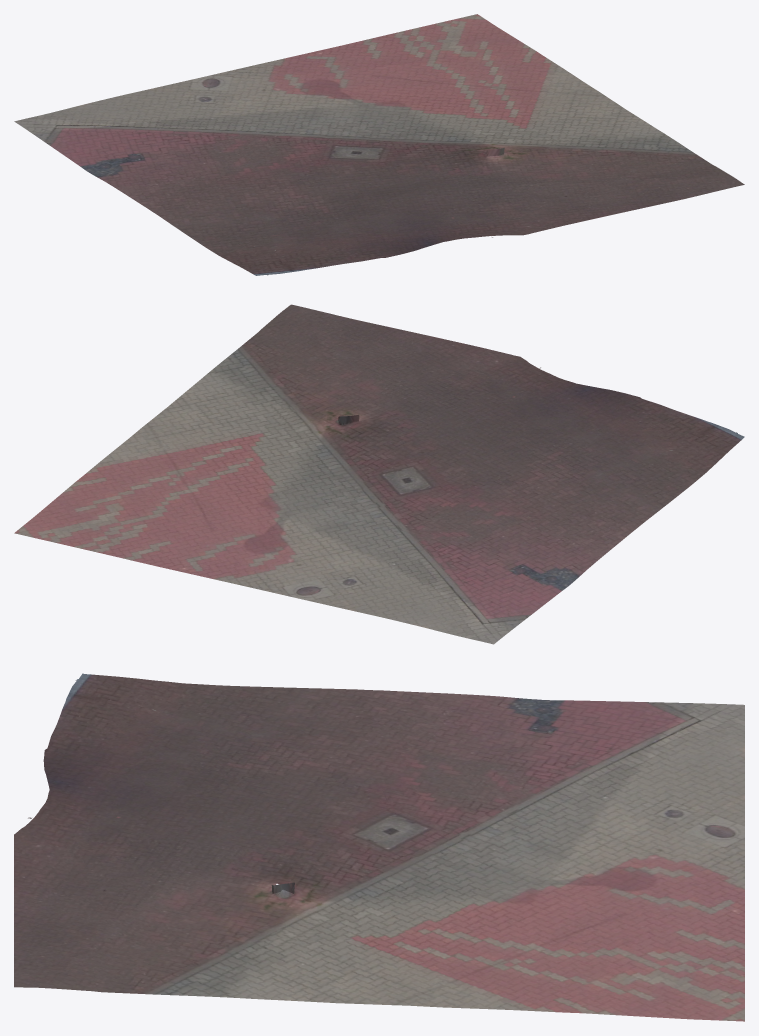
The picture shows the model from 3 angles, top to bottom: view 1: azimuth 30°, elevation 25°; view 2: azimuth 150°, elevation 25°; view 3: azimuth 270°, elevation 25°; orthographic projection. The views are drawn at different scales.
Size of the model in its own units: 8.36 by 0.4945 by 8.36.
Materials: 2 (2 with a texture image).
